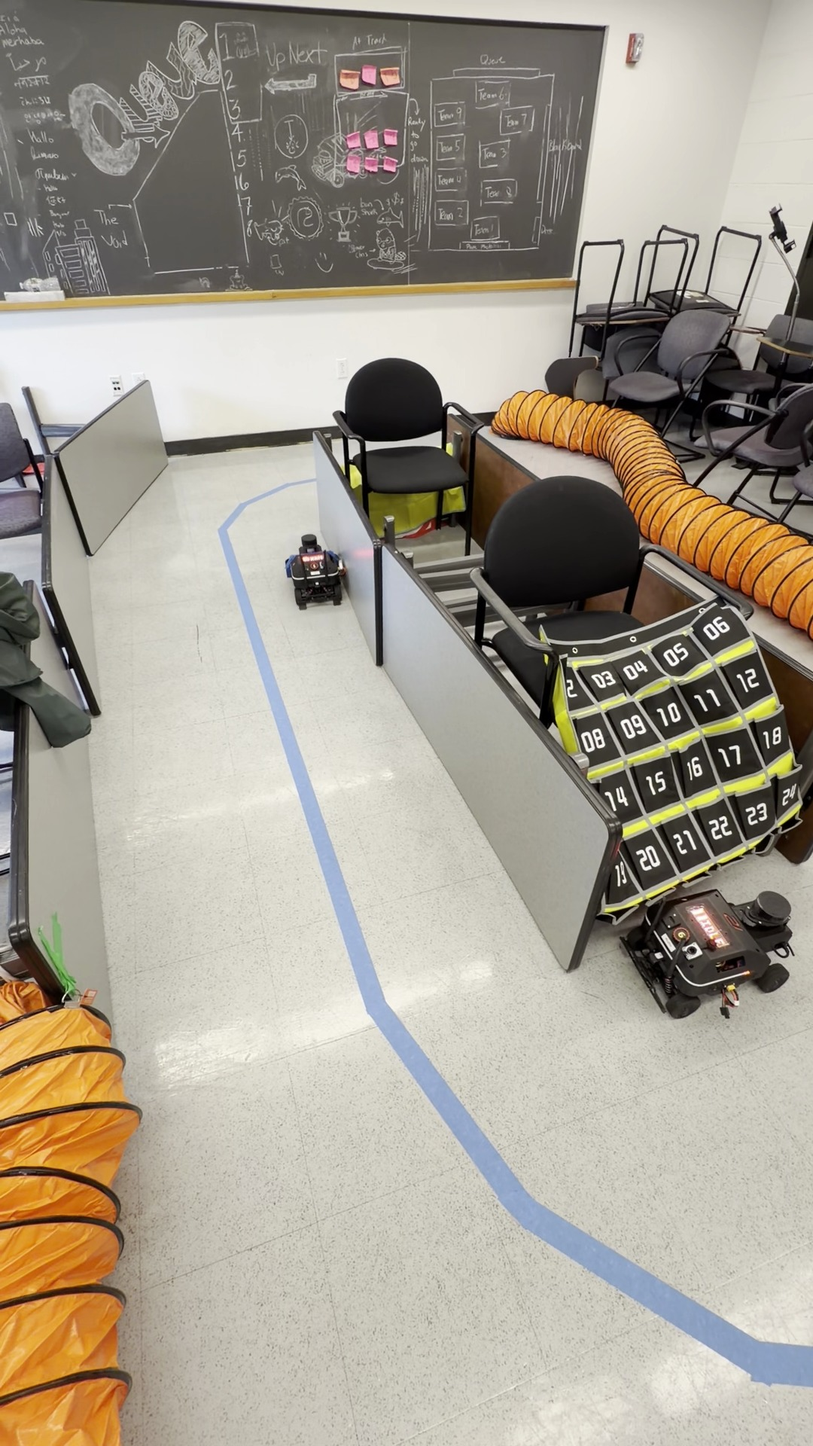racecar: (621, 889, 795, 1019), (285, 532, 349, 608)
